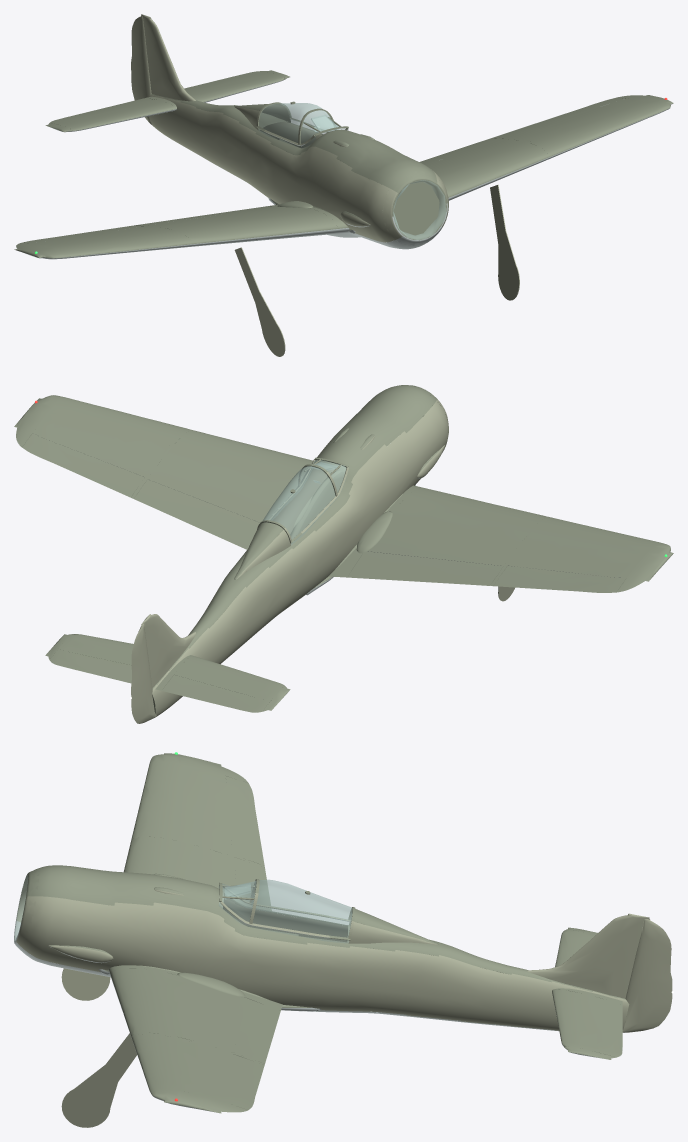
The model's file is fw190_mobil.glb.
The picture shows the model from 3 angles, top to bottom: view 1: azimuth 30°, elevation 25°; view 2: azimuth 150°, elevation 25°; view 3: azimuth 270°, elevation 25°; orthographic projection. The views are drawn at different scales.
Visible parts, largest first — view 1: aerial_pulley, canopy_glass, cowl_lip; view 2: aerial_pulley, canopy_glass; view 3: aerial_pulley, canopy_glass.
Part boxes in pixels (x1,y1,x2,y2): aerial_pulley: (14,14,673,356); canopy_glass: (258,103,348,147); cowl_lip: (393,180,445,239); aerial_pulley: (14,385,673,723); canopy_glass: (263,460,346,545); aerial_pulley: (14,753,672,1127); canopy_glass: (219,879,352,943).
Bounding box in the file's own units: 10.51 × 2.72 × 8.4.
